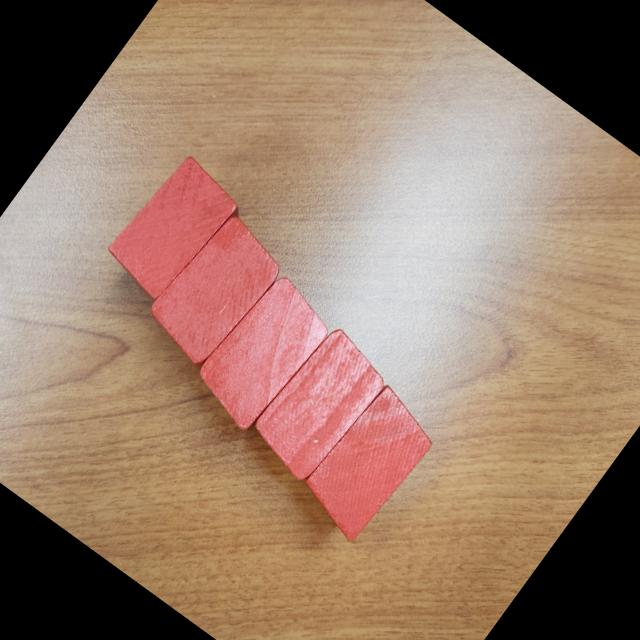red: (182, 267, 341, 441), (240, 318, 398, 491), (290, 377, 446, 548), (136, 206, 292, 375), (98, 148, 251, 312)
